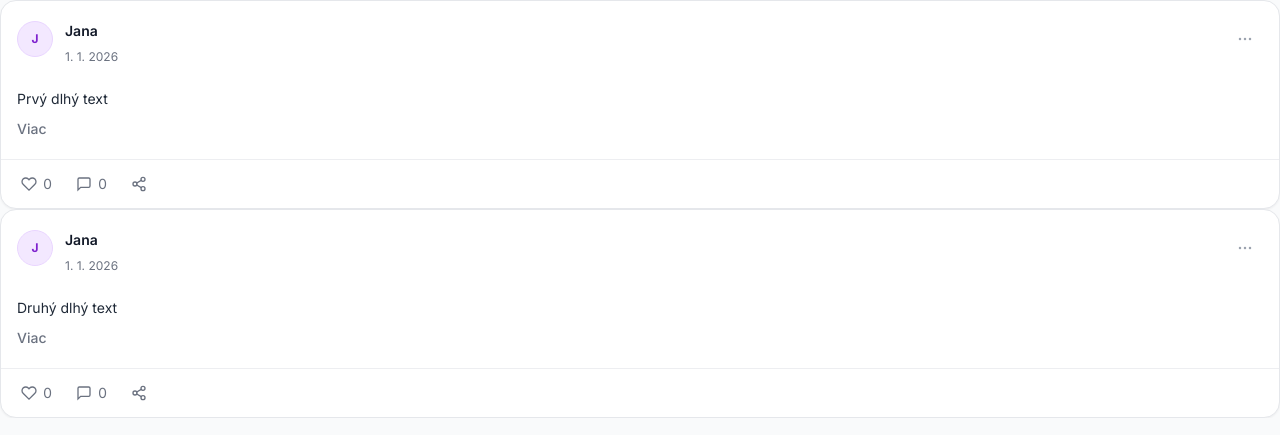
Test: skrátenie na tri riadky › keeps the expanded state separate for each card
Click the button with test id "feed-post-caption-toggle" below "Prvý dlhý text": (32, 129) left=17, top=111, right=46, bottom=147
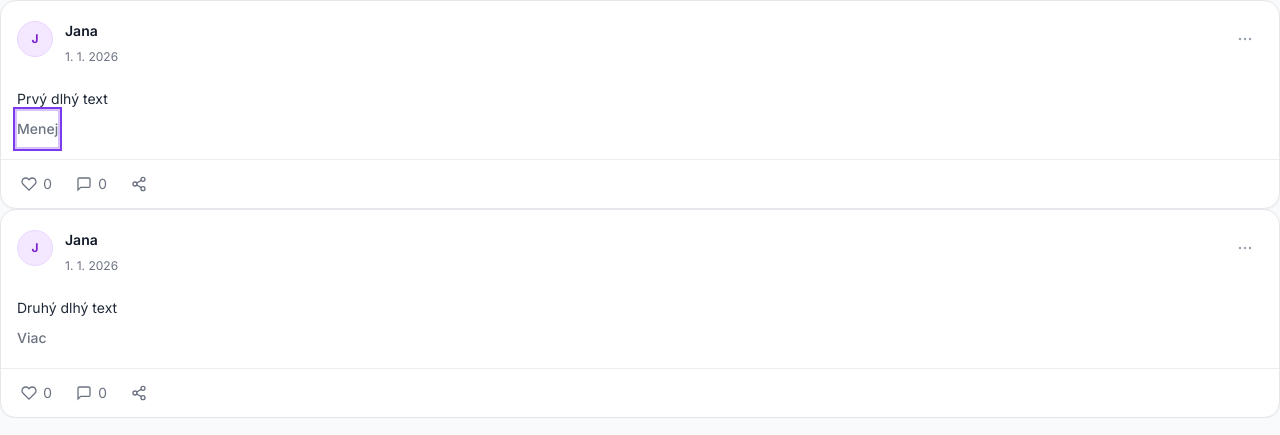
Expected: the button with test id "feed-post-caption-toggle" reads "Viac", left=17, top=320, right=46, bottom=356
Expected: the button with test id "feed-post-caption-toggle" reads "Menej", left=17, top=111, right=58, bottom=147
